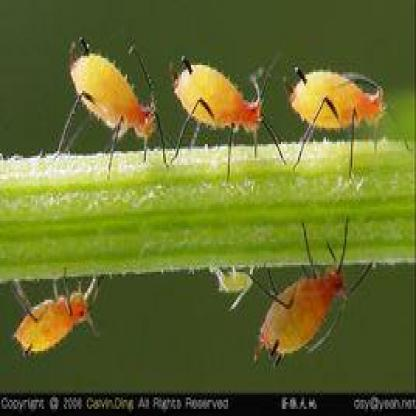aphid: (249, 204, 378, 368), (171, 42, 290, 172), (55, 32, 163, 172), (283, 48, 396, 171), (0, 258, 110, 363), (209, 254, 262, 321)
